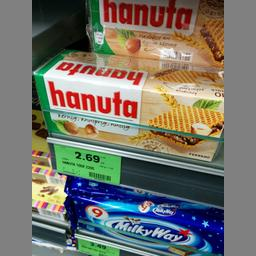chocolate: (31, 46, 223, 135), (64, 191, 223, 255), (86, 0, 223, 64)
